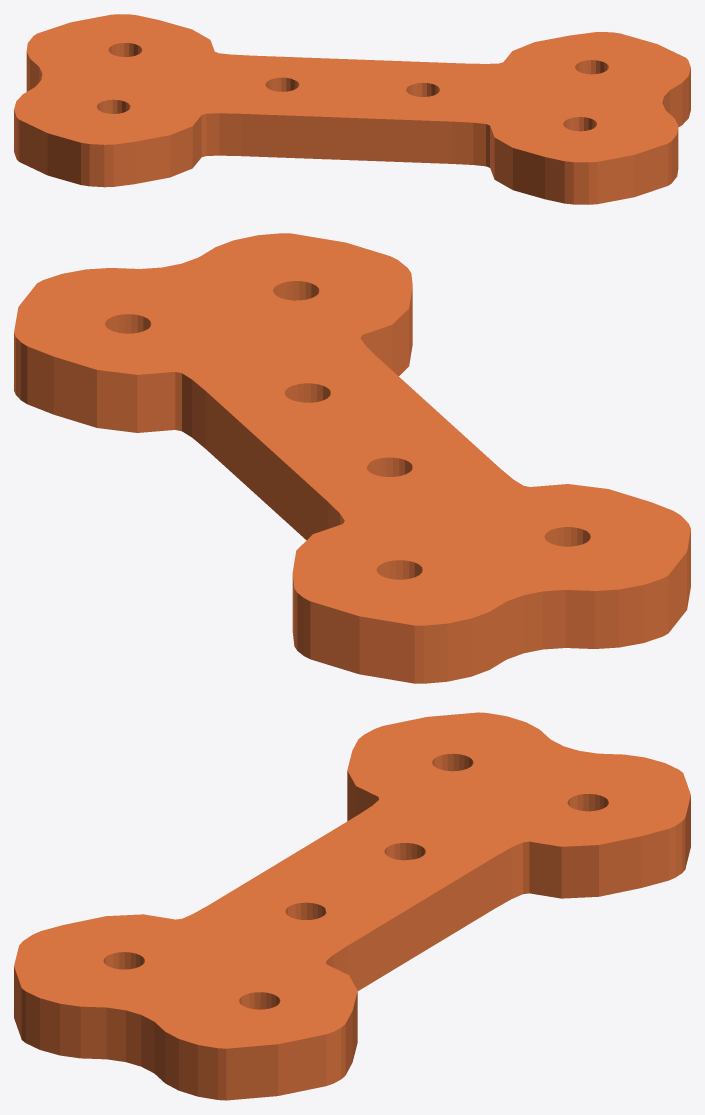
File: dog_biscuit.glb
3 renders of one model, top to bottom at view 1: azimuth 30°, elevation 25°; view 2: azimuth 150°, elevation 25°; view 3: azimuth 270°, elevation 25°, orthographic. The views are drawn at different scales.
Visible parts, largest first — view 1: Box001; view 2: Box001; view 3: Box001.
Part boxes in pixels (bbox=[...]): Box001: bbox=[14, 14, 690, 204]; Box001: bbox=[14, 233, 690, 683]; Box001: bbox=[14, 712, 690, 1100].
Size of the model in its own units: 658361 by 47286 by 560128.
